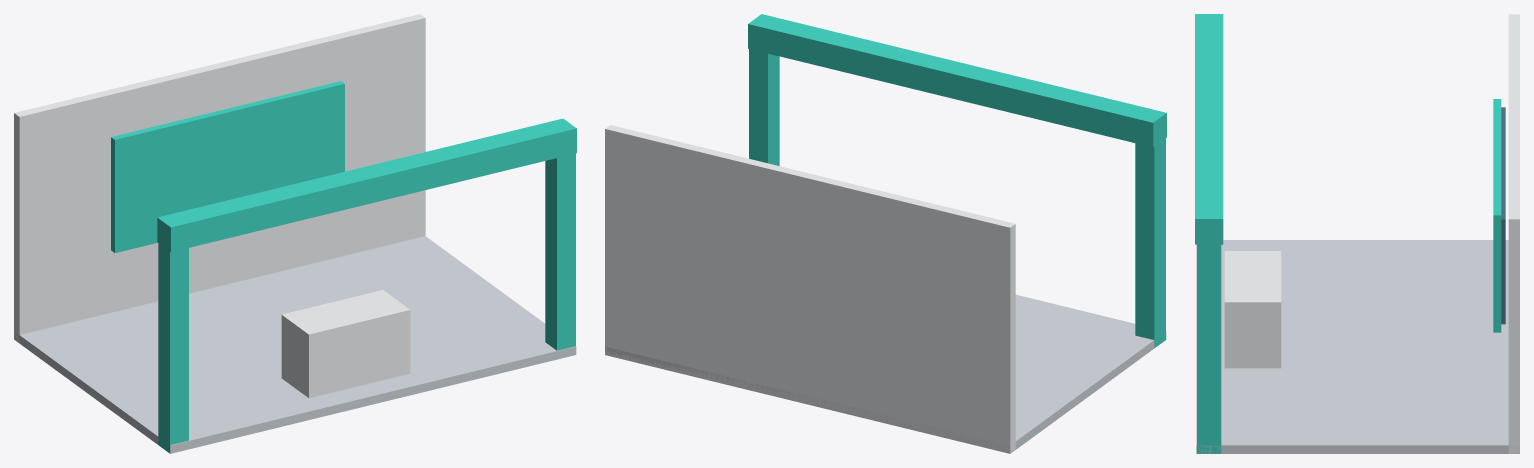
The picture shows the model from 3 angles, left to right: view 1: azimuth 30°, elevation 25°; view 2: azimuth 150°, elevation 25°; view 3: azimuth 270°, elevation 25°; orthographic projection. The views are drawn at different scales.
Parts seen in each view (by area): view 1: Exhibition Booth Concept; view 2: Exhibition Booth Concept; view 3: Exhibition Booth Concept.
Boxes of the visible parts, x1,y1,x2,y2 form: Exhibition Booth Concept: [14, 14, 576, 453]; Exhibition Booth Concept: [605, 14, 1166, 453]; Exhibition Booth Concept: [1195, 14, 1519, 453].
Size of the model in its own units: 6 by 3.2 by 4.02.
